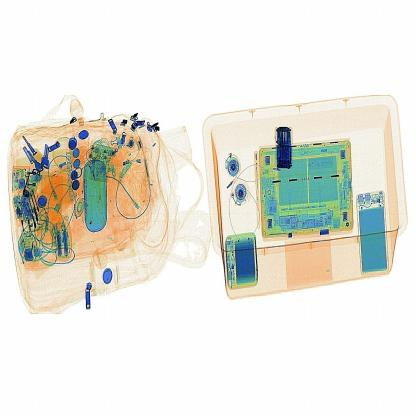scissors: (271, 121, 301, 172)
